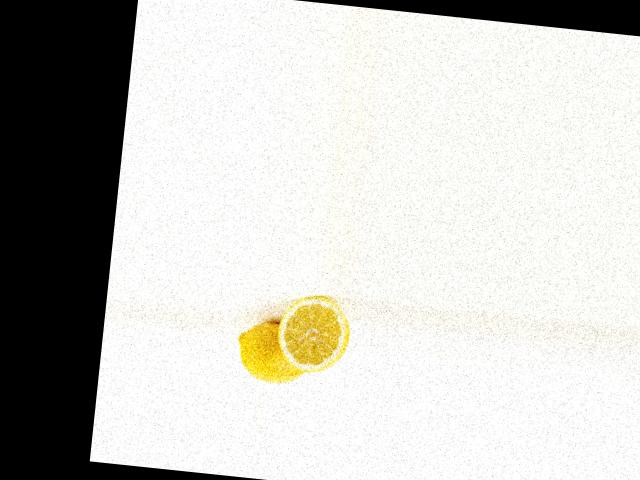lemon: (231, 311, 312, 386)
